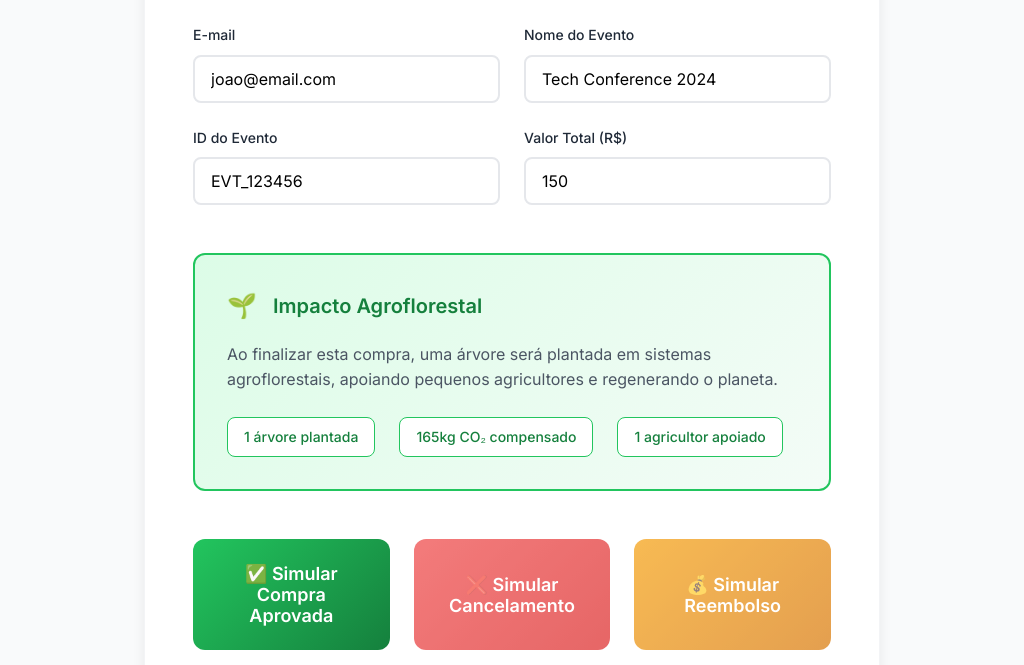
CheckoutForm › envia webhook com sucesso
(page scrolled)
Click the button "✅ Simular Compra Aprovada".
click(291, 595)  # box 193,539 -> 390,650
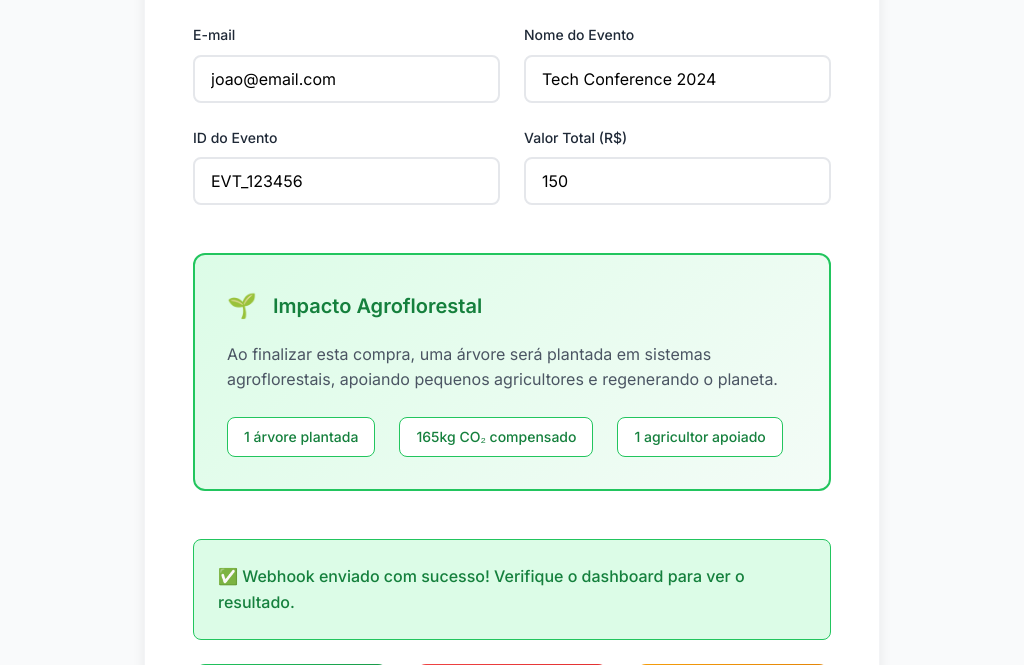
Check: the text "Webhook enviado com sucesso" is shown, box 218,566 -> 745,612
